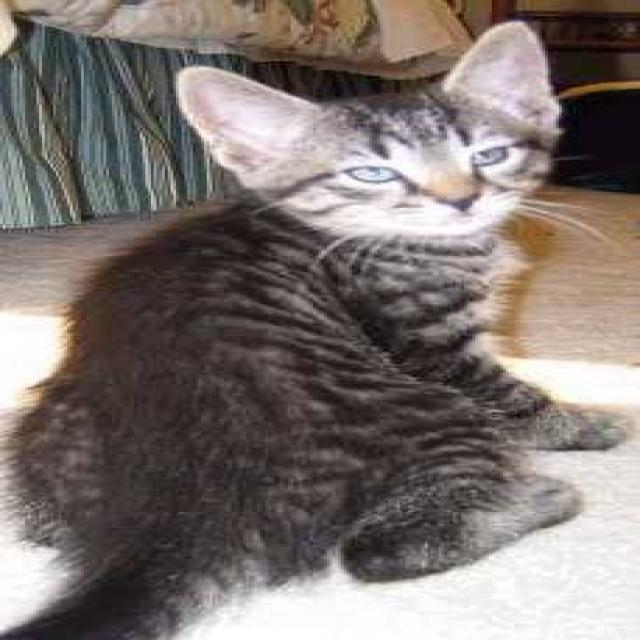cat: (0, 19, 629, 638)
